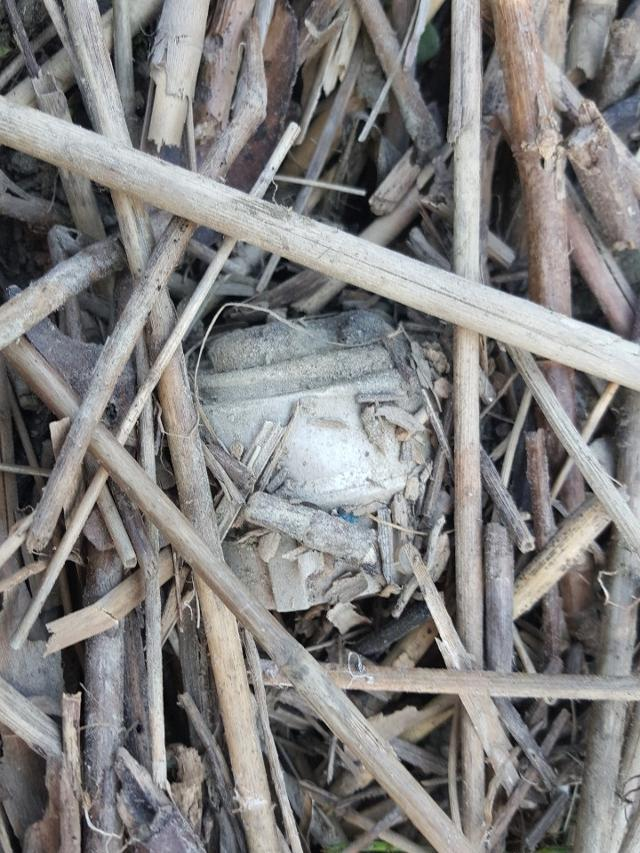pmn: (179, 304, 444, 620)
